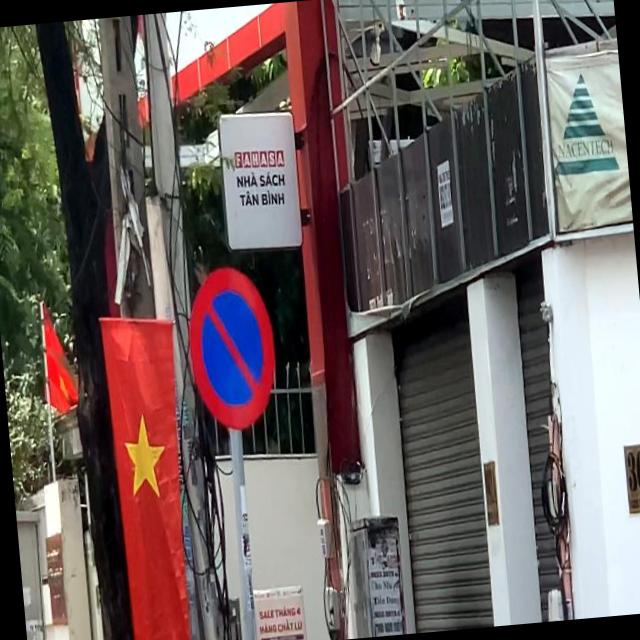P-131a: (182, 260, 278, 430)
